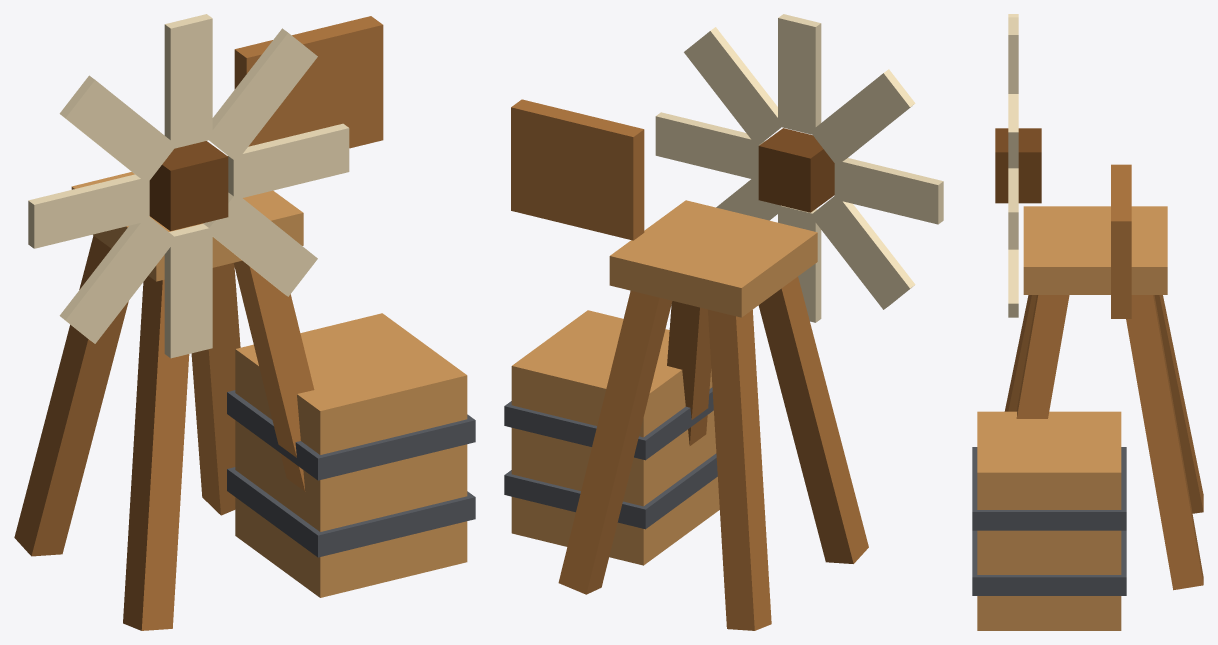
File: machine-windmill.glb
3 renders of one model, left to right at view 1: azimuth 30°, elevation 25°; view 2: azimuth 150°, elevation 25°; view 3: azimuth 270°, elevation 25°, orthographic. The views are drawn at different scales.
Visible parts, largest first — view 1: Barrel, Leg, Leg.001, Tail fin, Leg.003, Leg.002, Hoop, Hoop.001, Sail, Sail.005, Sail.006, Sail.001 (+6 smaller); view 2: Barrel, Top cap, Tail fin, Leg.001, Leg.003, Leg, Hub, Sail, Sail.006, Sail.001, Sail.005, Sail.002 (+6 smaller); view 3: Barrel, Top cap, Leg.003, Leg.002, Hoop.001, Hoop, Tail fin, Hub, Leg.001, Leg, Sail.002, Sail (+2 smaller).
Boxes of the visible parts, bbox=[...] form: Barrel: bbox=[235, 313, 467, 597]; Leg: bbox=[123, 276, 189, 630]; Leg.001: bbox=[14, 235, 128, 556]; Tail fin: bbox=[234, 16, 383, 148]; Leg.003: bbox=[191, 263, 240, 515]; Leg.002: bbox=[233, 260, 314, 491]; Hoop: bbox=[227, 467, 475, 557]; Hoop.001: bbox=[227, 390, 475, 480]; Sail: bbox=[164, 14, 212, 149]; Sail.005: bbox=[59, 215, 176, 343]; Sail.006: bbox=[28, 174, 149, 248]; Sail.001: bbox=[209, 28, 317, 161]; Barrel: bbox=[511, 310, 719, 565]; Top cap: bbox=[609, 200, 817, 317]; Tail fin: bbox=[511, 99, 644, 240]; Leg.001: bbox=[707, 309, 771, 630]; Leg.003: bbox=[558, 291, 672, 594]; Leg: bbox=[758, 276, 868, 563]; Hub: bbox=[758, 128, 834, 212]; Sail: bbox=[778, 14, 821, 135]; Sail.006: bbox=[834, 158, 943, 224]; Sail.001: bbox=[684, 27, 783, 146]; Sail.005: bbox=[813, 194, 915, 309]; Sail.002: bbox=[655, 112, 764, 178]; Barrel: bbox=[977, 411, 1121, 630]; Top cap: bbox=[1023, 206, 1167, 294]; Leg.003: bbox=[1126, 295, 1203, 590]; Leg.002: bbox=[1016, 295, 1069, 418]; Hoop.001: bbox=[972, 447, 1126, 530]; Hoop: bbox=[972, 530, 1126, 595]; Tail fin: bbox=[1111, 164, 1131, 318]; Hub: bbox=[995, 128, 1041, 203]; Leg.001: bbox=[1154, 295, 1203, 513]; Leg: bbox=[1004, 295, 1036, 411]; Sail.002: bbox=[1008, 168, 1018, 249]; Sail: bbox=[1008, 17, 1018, 93].
Bounding box in the file's own units: 1.6 × 2.16 × 0.9.
